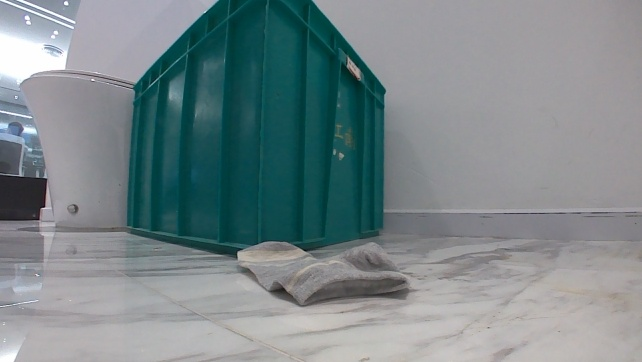socks: (229, 235, 416, 310)
toilet: (16, 66, 135, 230)
